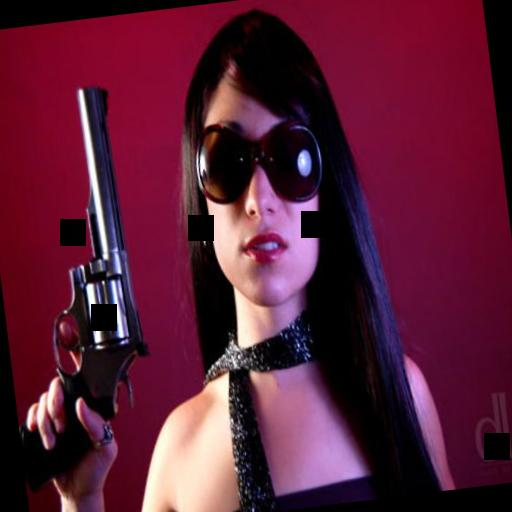Handgun: (0, 80, 165, 492)
